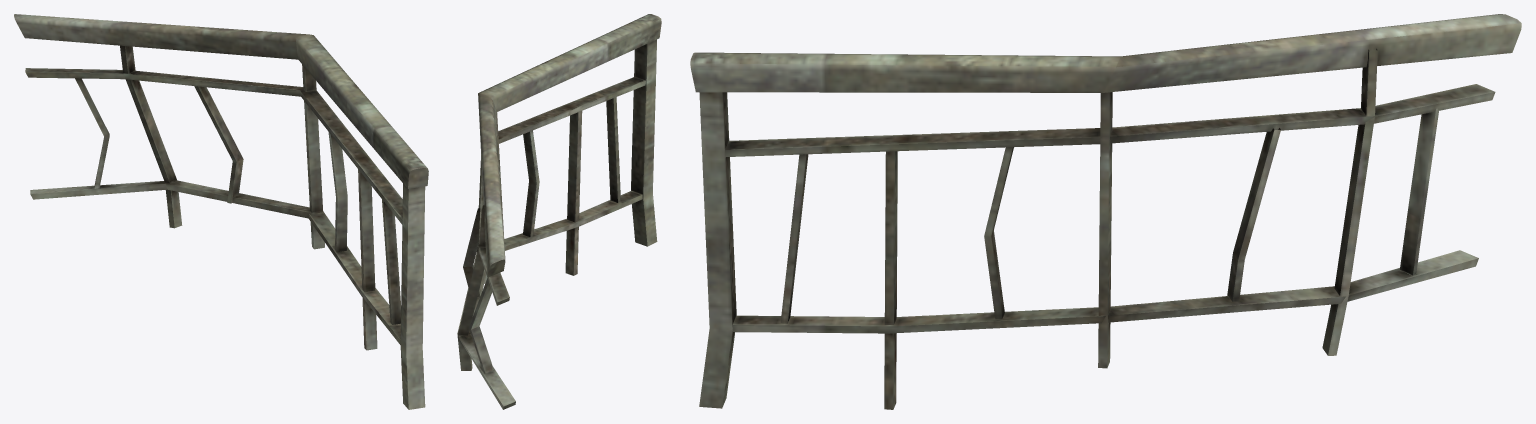
Rendered from RailingsBroken_T02.FBX.
3 views of the same model, side by side, from view 1: azimuth 30°, elevation 25°; view 2: azimuth 150°, elevation 25°; view 3: azimuth 270°, elevation 25° (orthographic). The views are drawn at different scales.
Visible parts, largest first — view 1: RailingsBroken_T02; view 2: RailingsBroken_T02; view 3: RailingsBroken_T02.
Part boxes in pixels (box(x1,y1,x2,y2)): RailingsBroken_T02: box(14, 14, 428, 409); RailingsBroken_T02: box(457, 14, 661, 409); RailingsBroken_T02: box(690, 14, 1521, 409).
Bounding box in the file's own units: 85.03 × 123 × 253.
